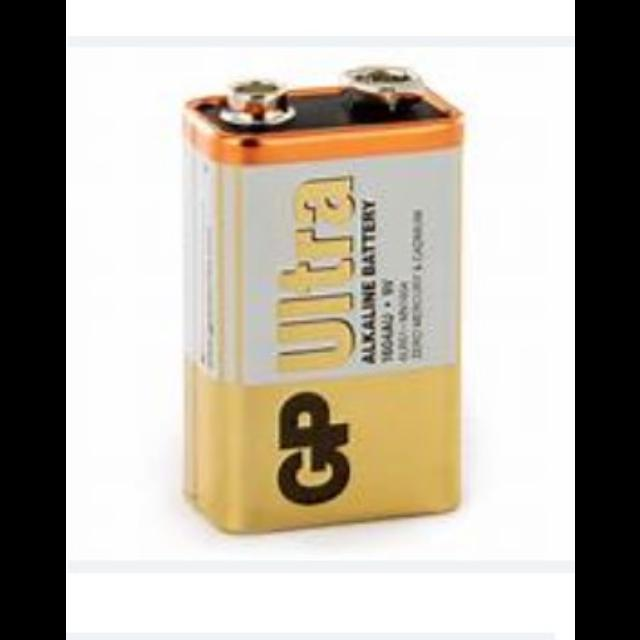Battery: (179, 67, 466, 537)
